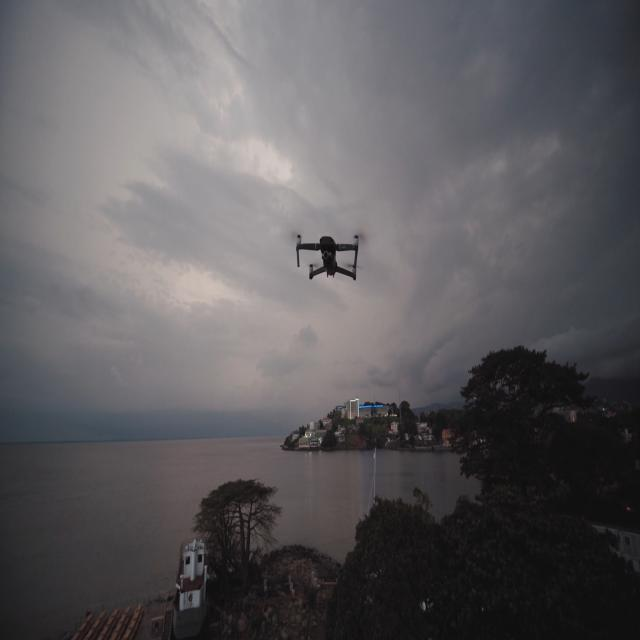drone: (296, 233, 360, 281)
